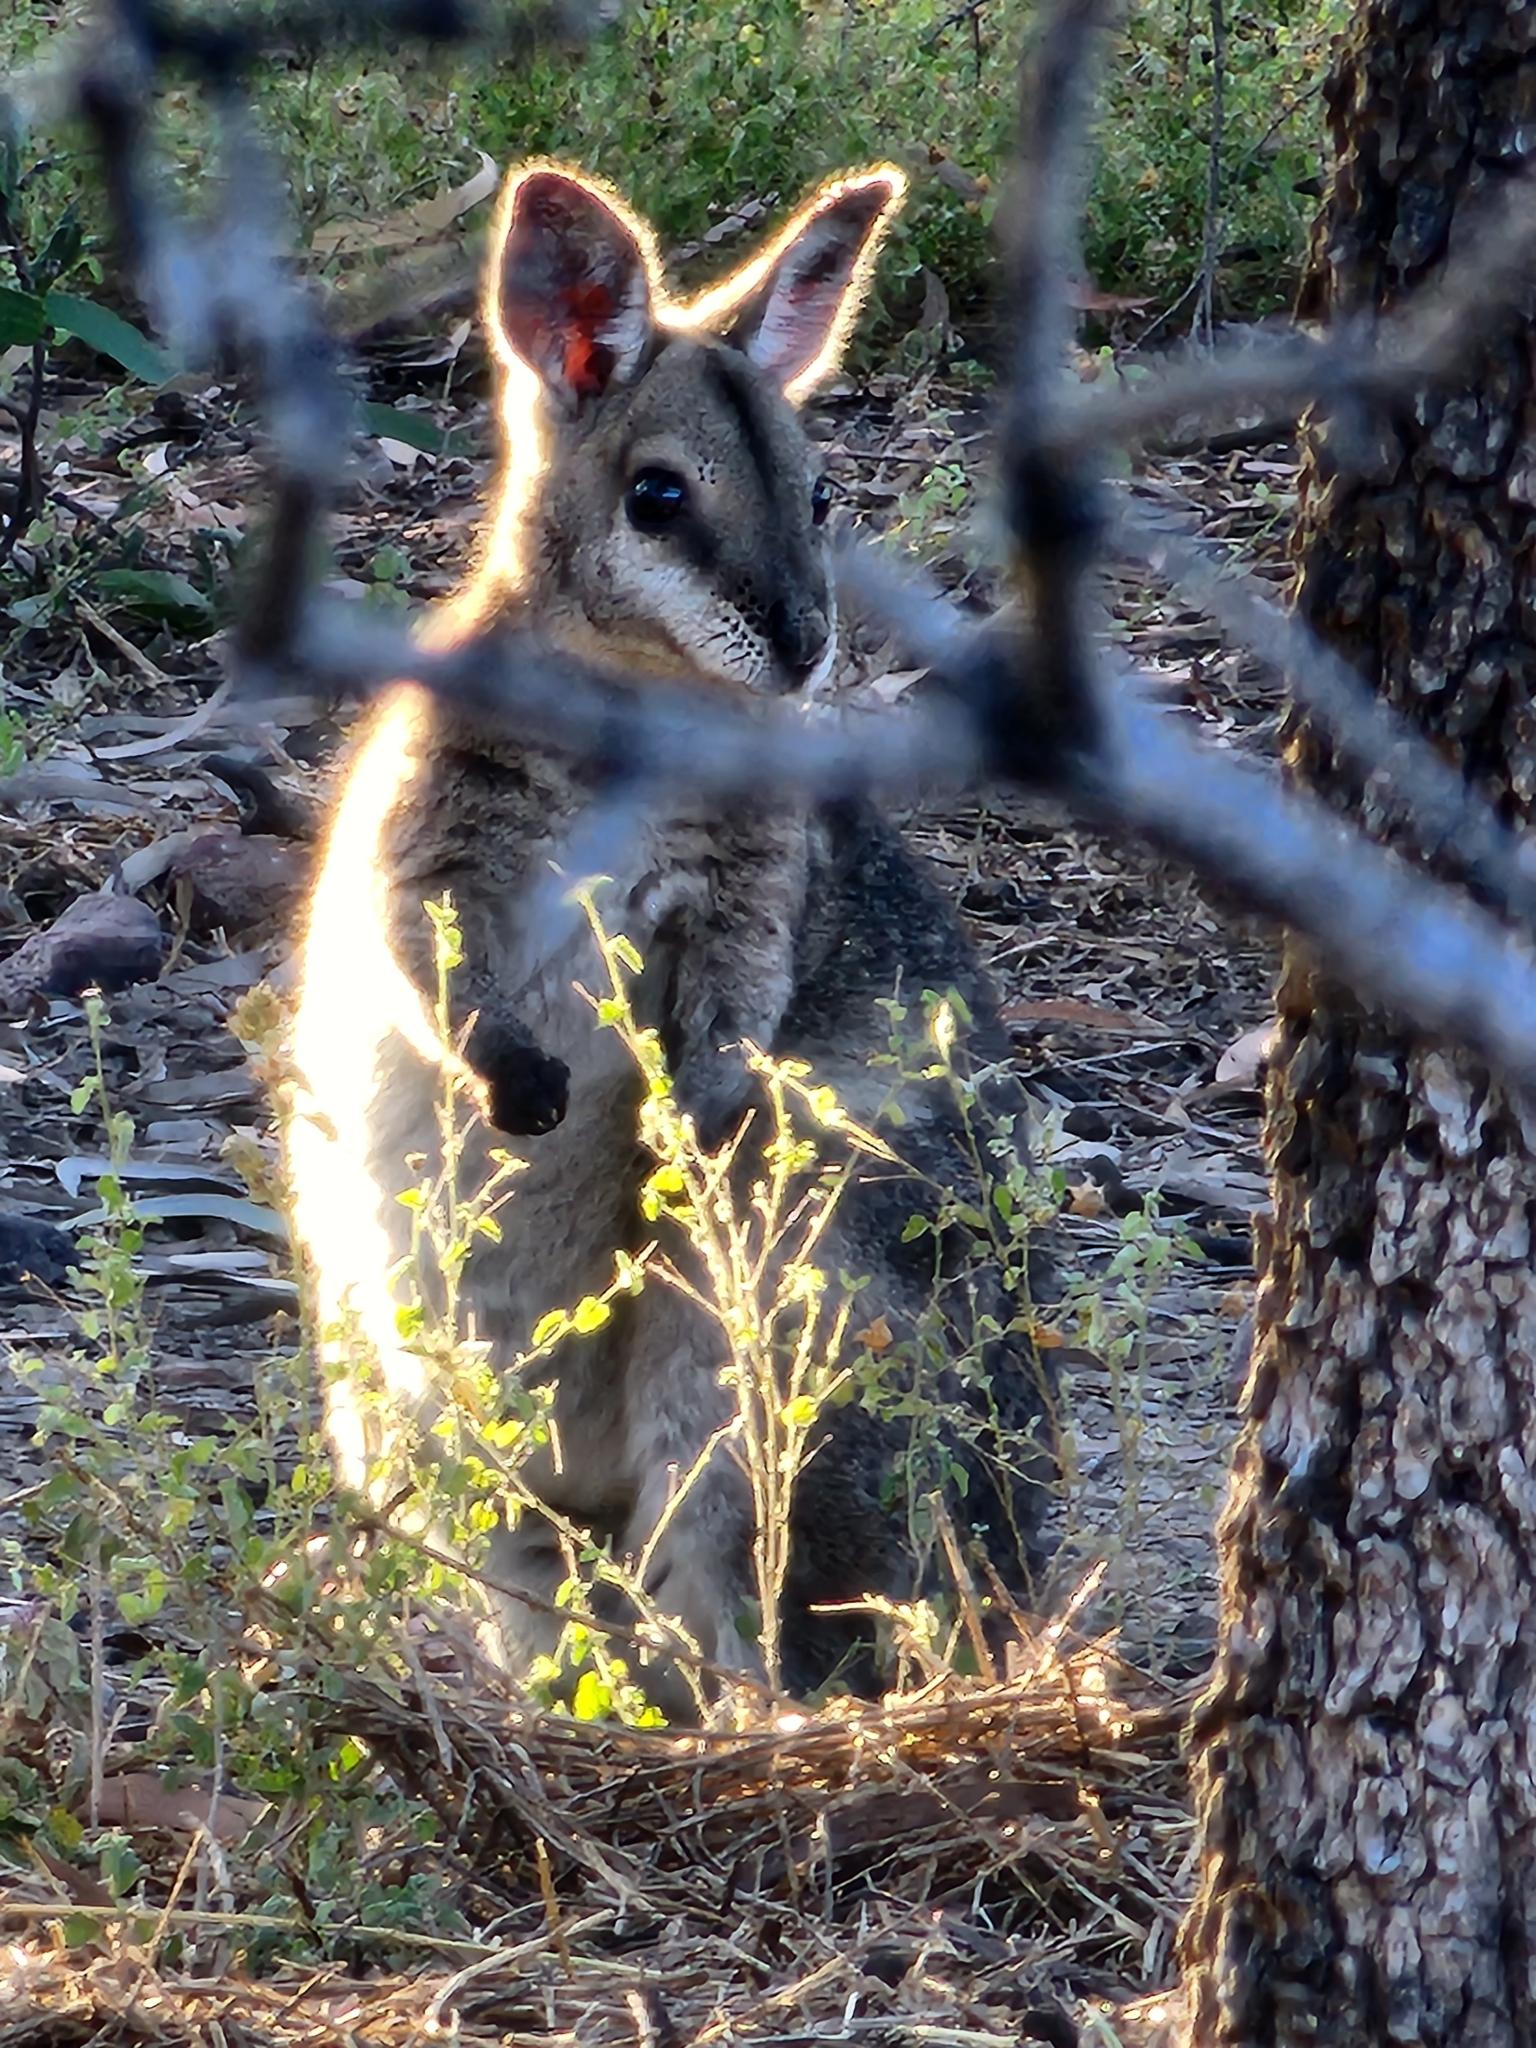Bridled-nail-tail wallaby: (284, 150, 1087, 1743)
